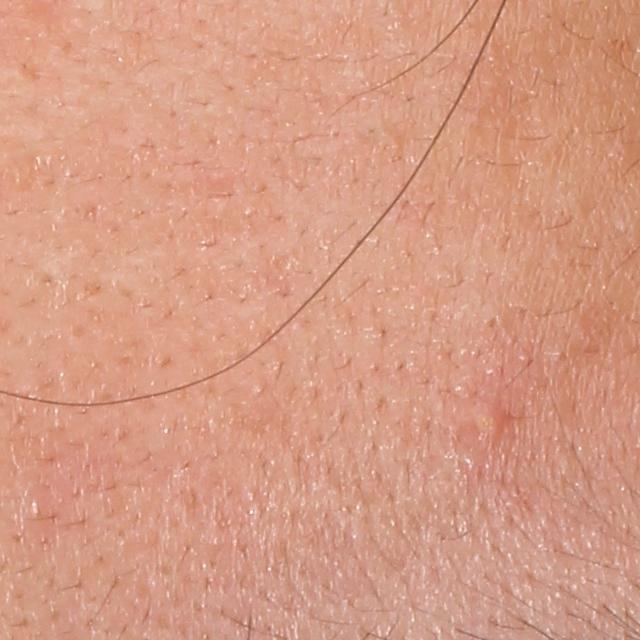comedo: (27, 498, 47, 524), (482, 313, 502, 331)
papule: (473, 402, 505, 439)
